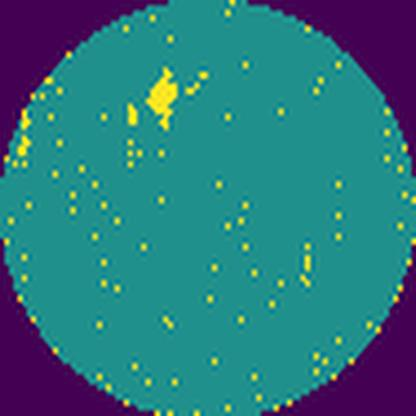Loc: (143, 68, 178, 131)
